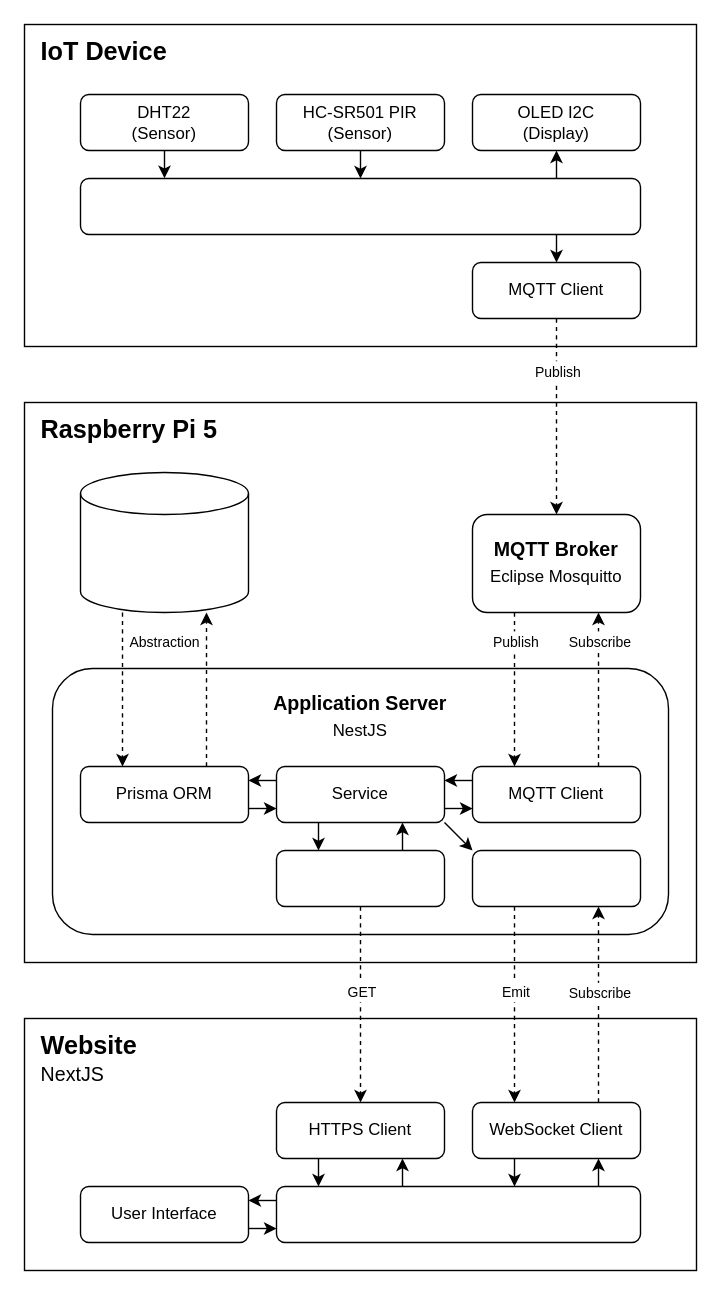
The diagram is 721 pixels wide and 1295 high, and some of its shapes have lost their labels. Each missing label, with the centre of its shape:
"Controller" belongs at point 359,877.
"CSR" belongs at point 457,1213.
"Database PostgreSQL" belongs at point 163,541.
"ESP32 CH340" belongs at point 359,205.
"WebSocket Provider" belongs at point 555,877.
